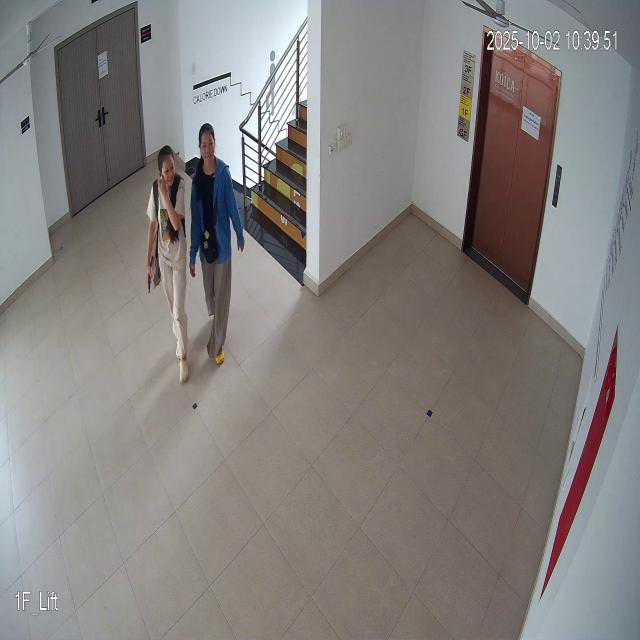face: (195, 116, 220, 167), (157, 143, 178, 189)
